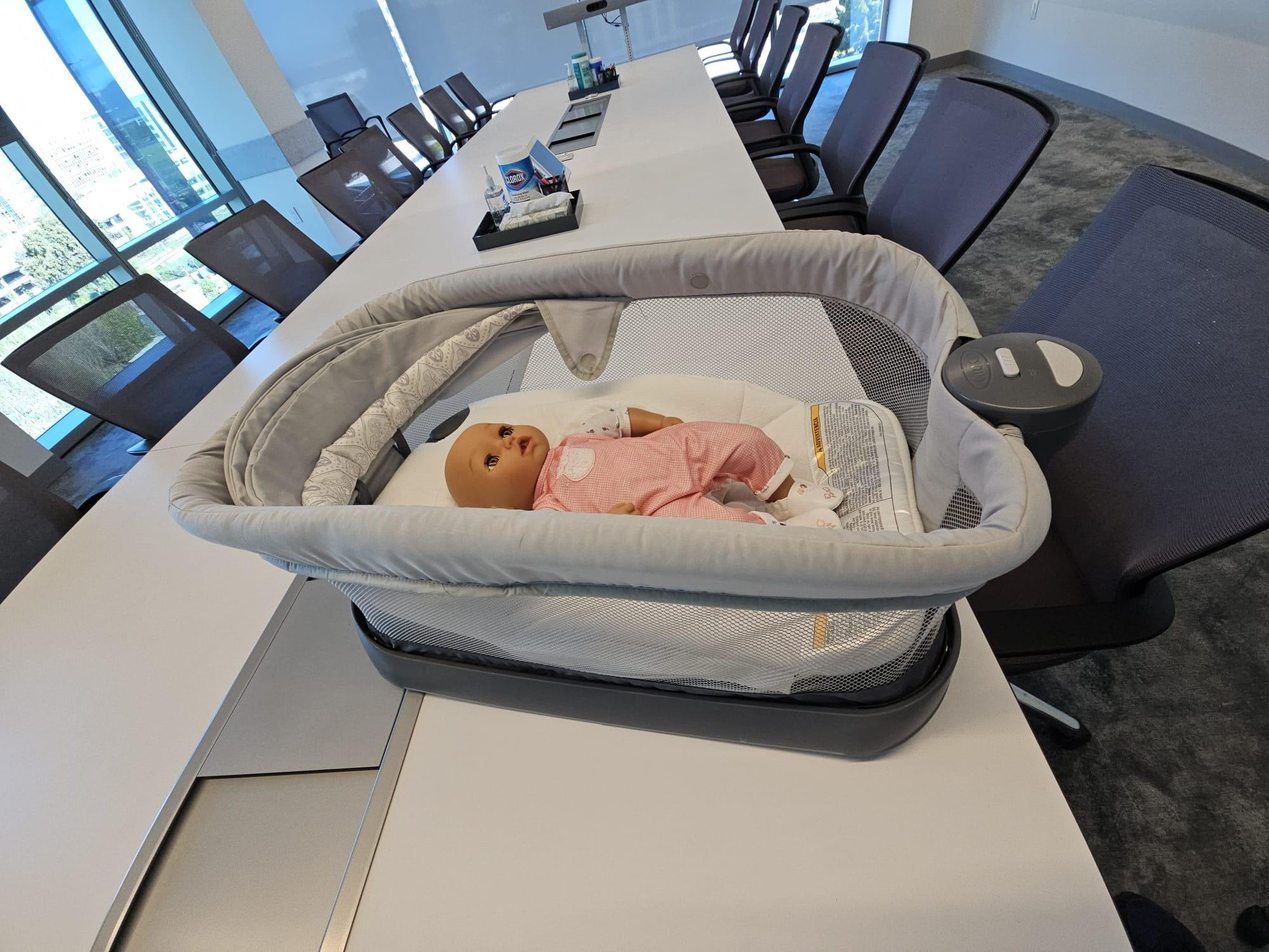baby: (436, 400, 857, 549)
